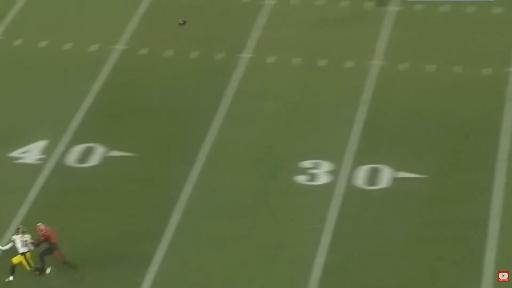Helmet: (36, 224, 46, 233), (17, 226, 26, 233)
Jersey: (12, 234, 33, 253), (37, 228, 58, 245)
Player: (35, 224, 77, 274), (0, 227, 34, 281)
